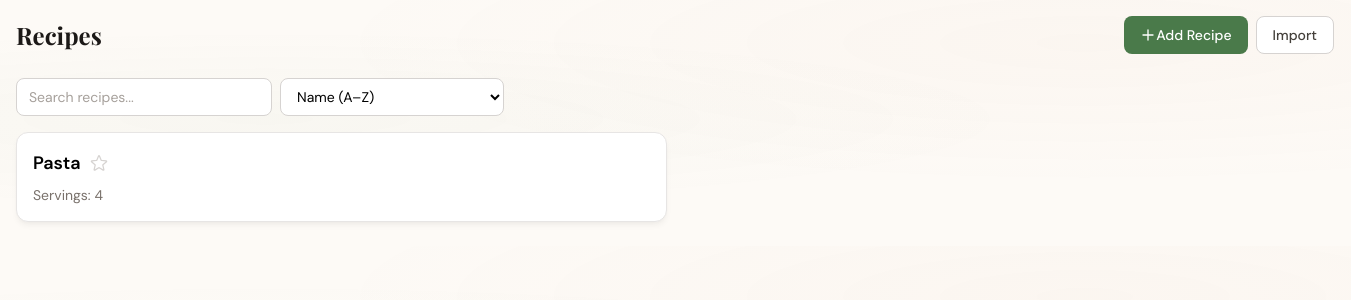
RecipeManager › clicking a recipe card navigates to its detail page by slug
Click the button "Pasta".
click(57, 163)  # box [33,149,80,177]
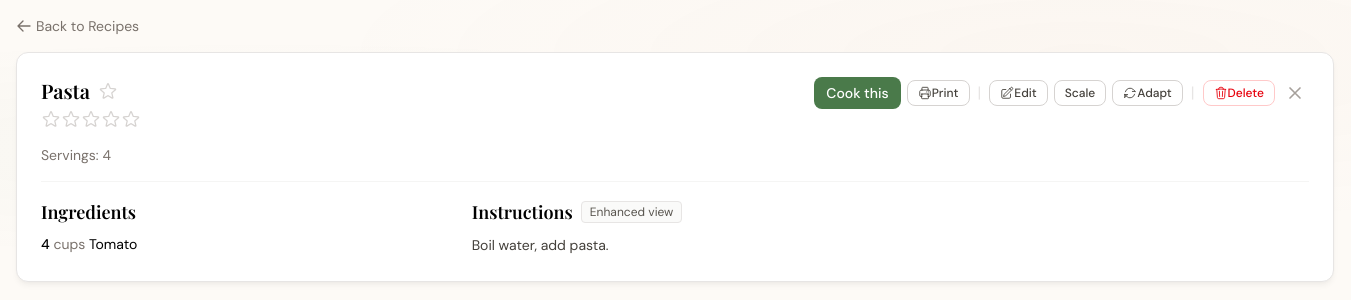
Expected: the link "Back to Recipes" is shown, [16,16,139,36]
Expected: the heading "Ingredients" is shown, [41,200,136,224]
